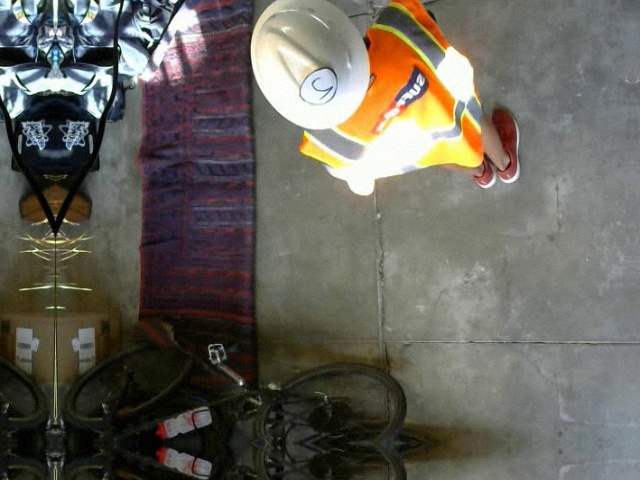two: (297, 68, 336, 105)
